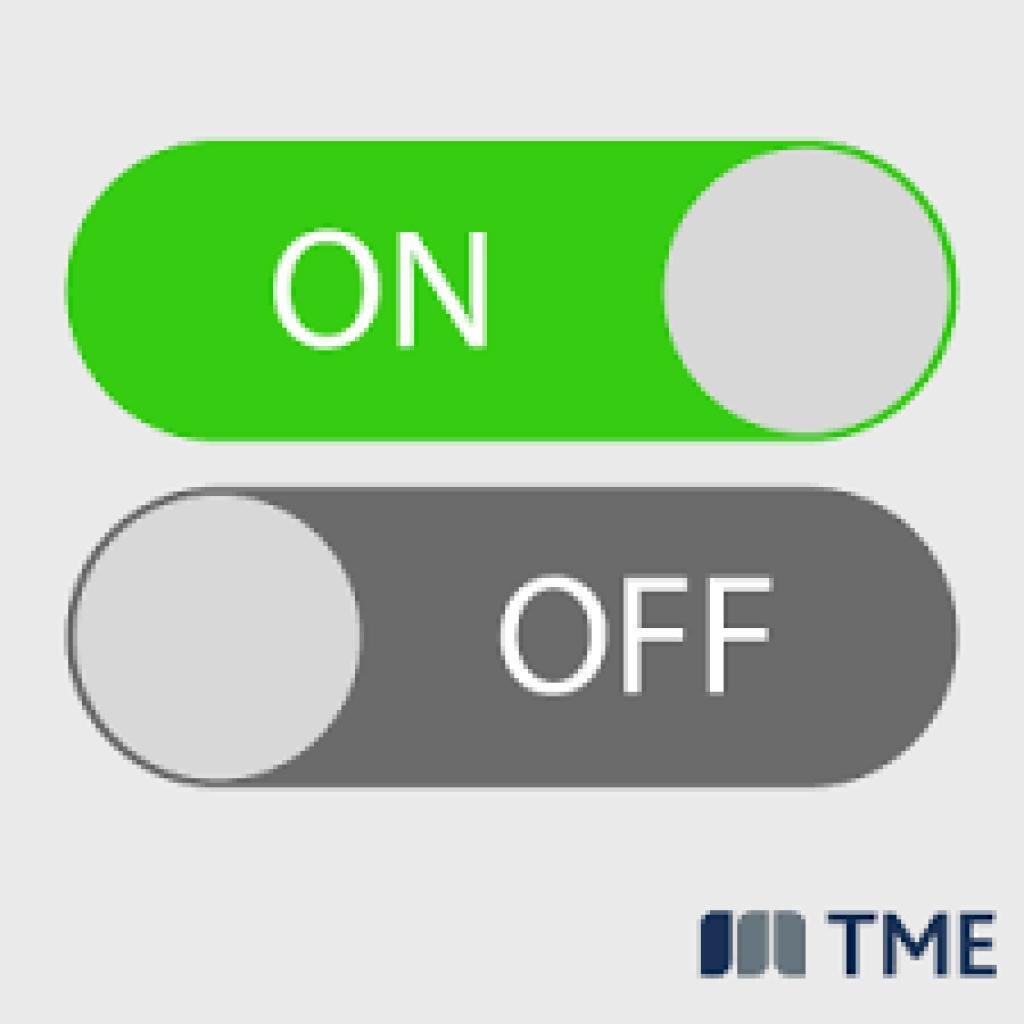switch: (67, 143, 963, 446), (68, 488, 959, 786)
